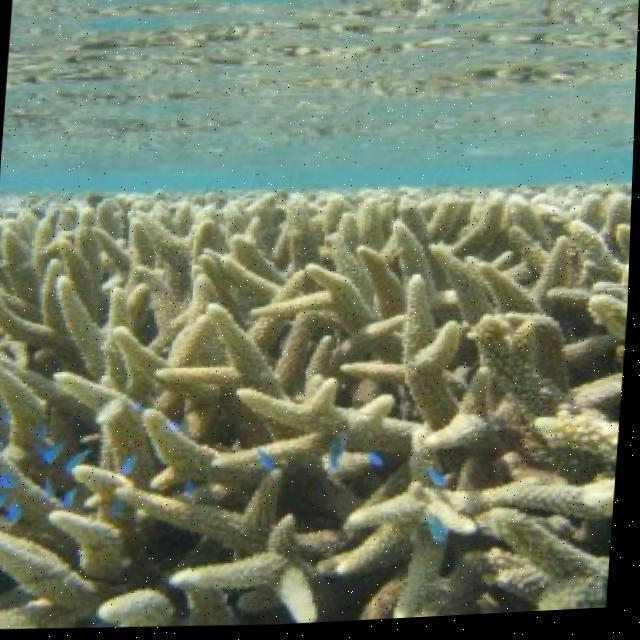Bleached Coral: (0, 160, 635, 640)
